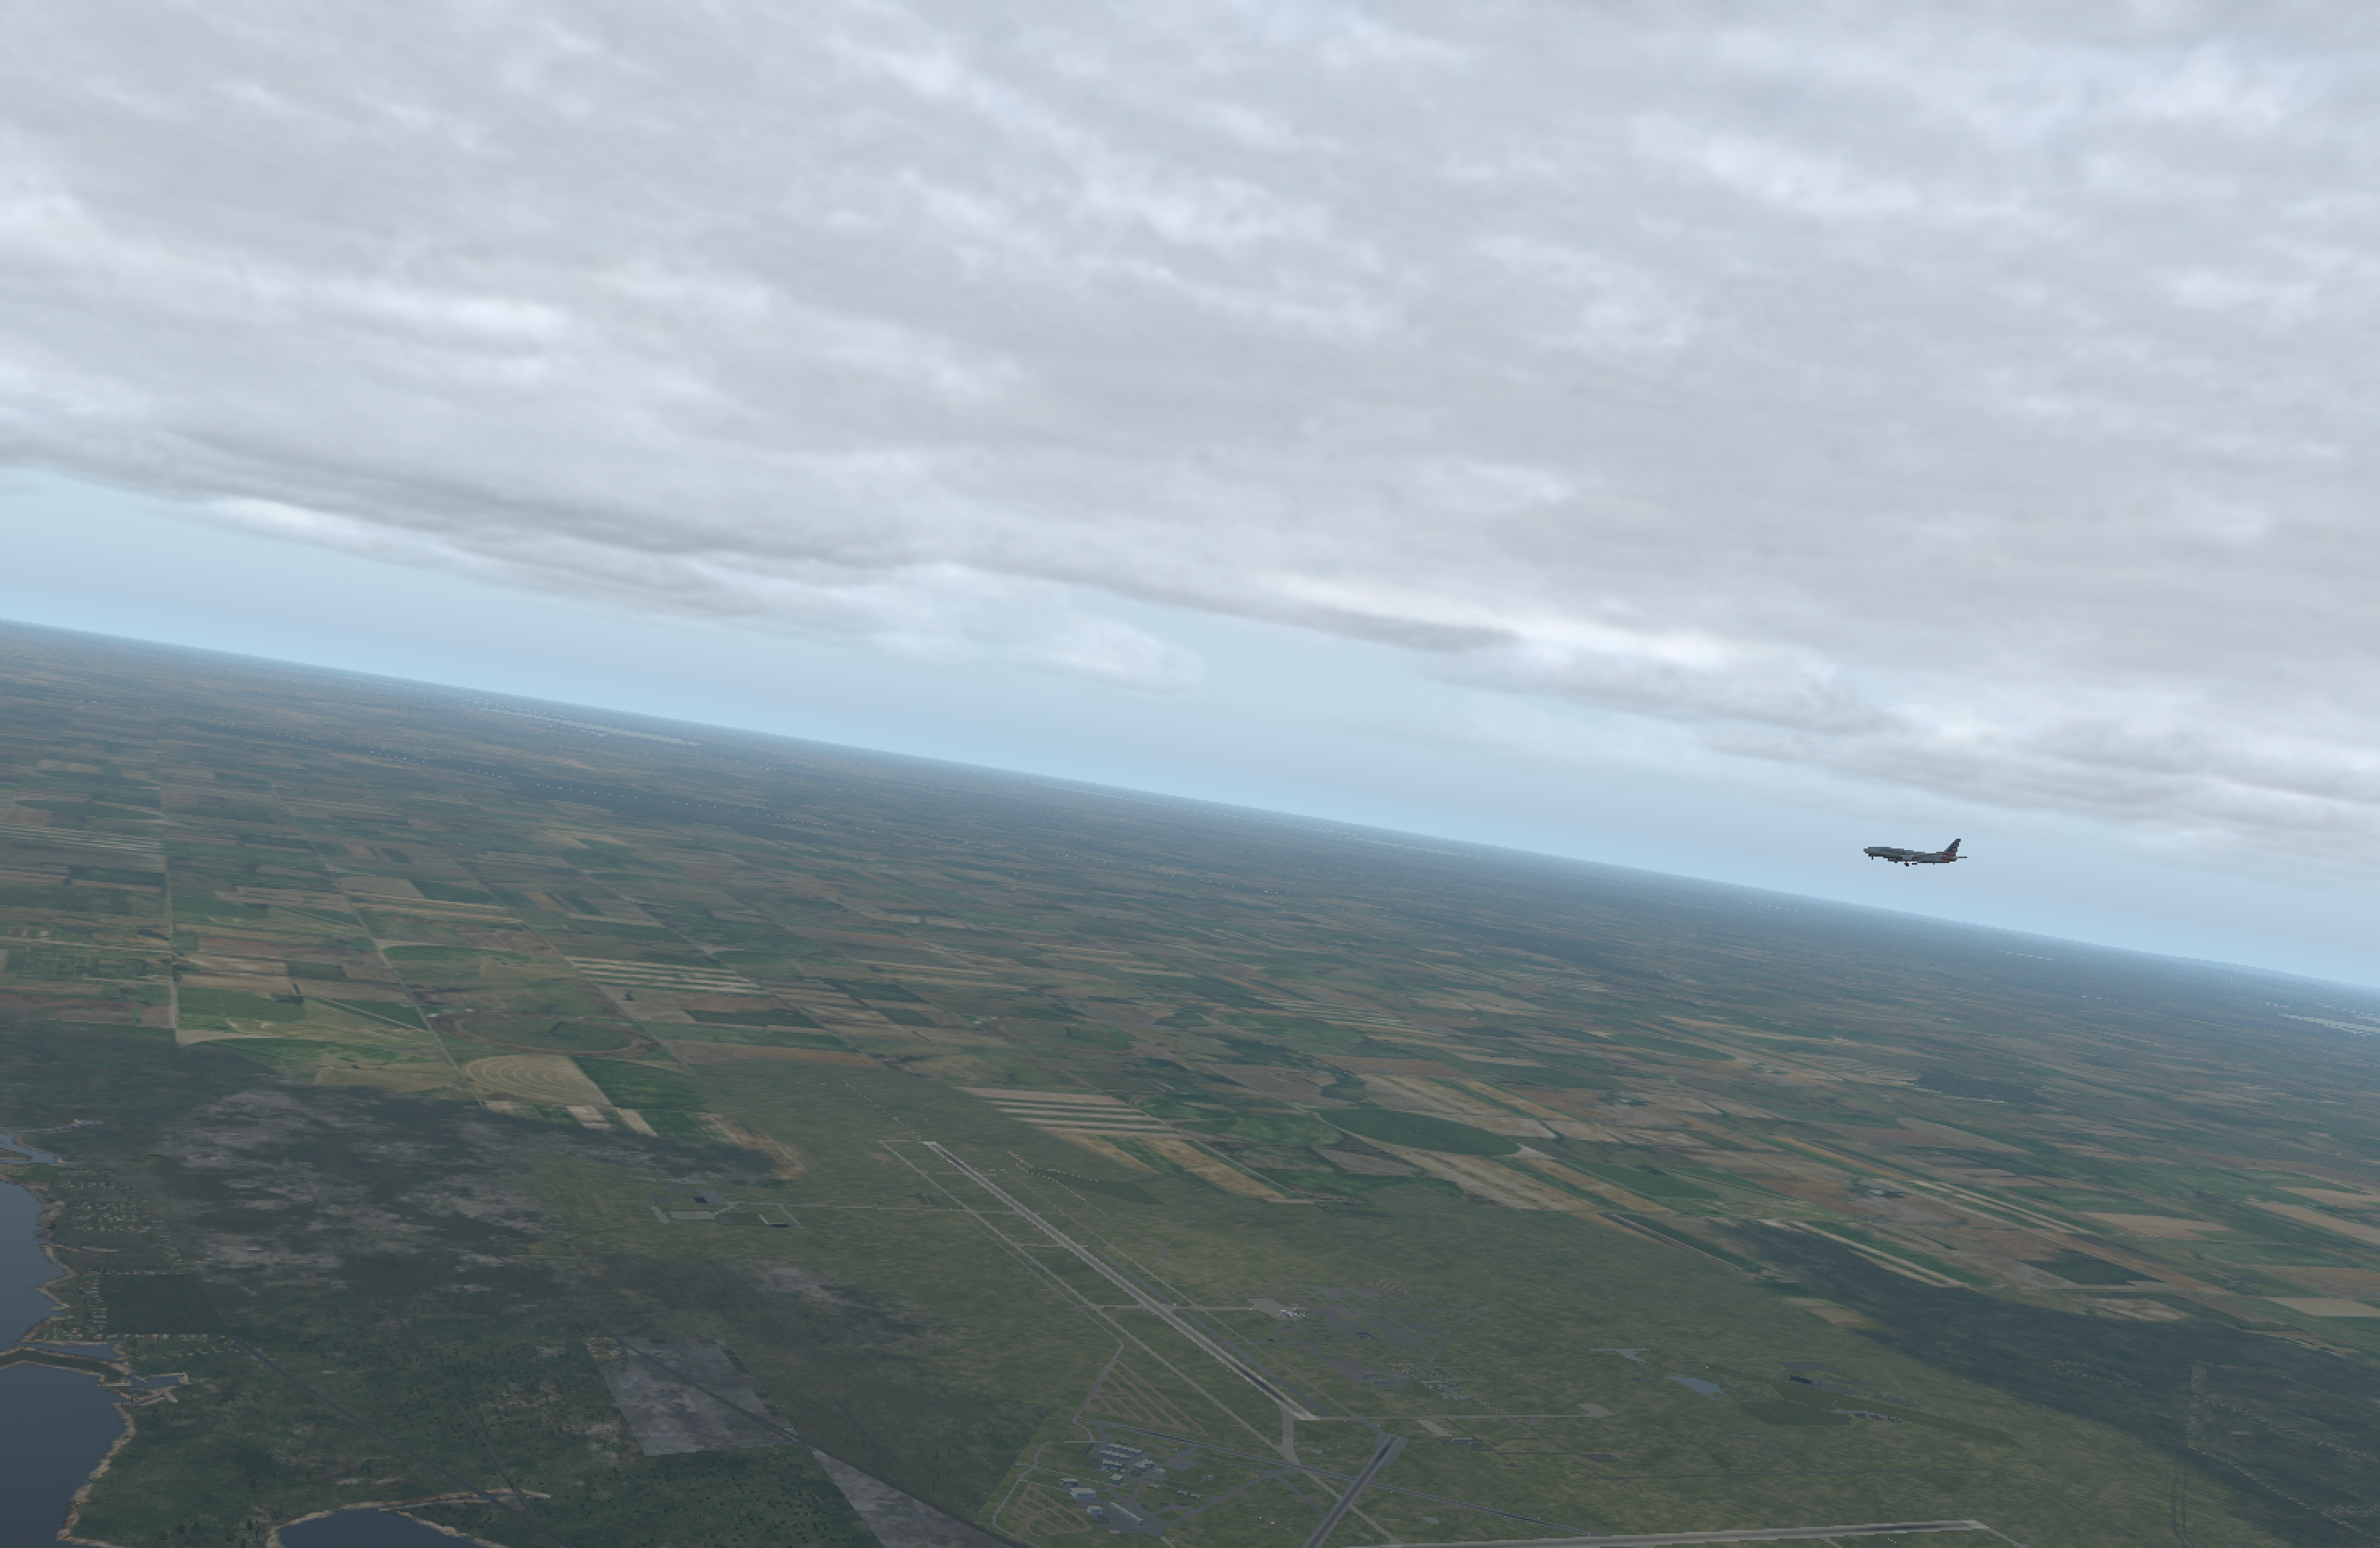aircraft: (1860, 838, 1957, 875)
